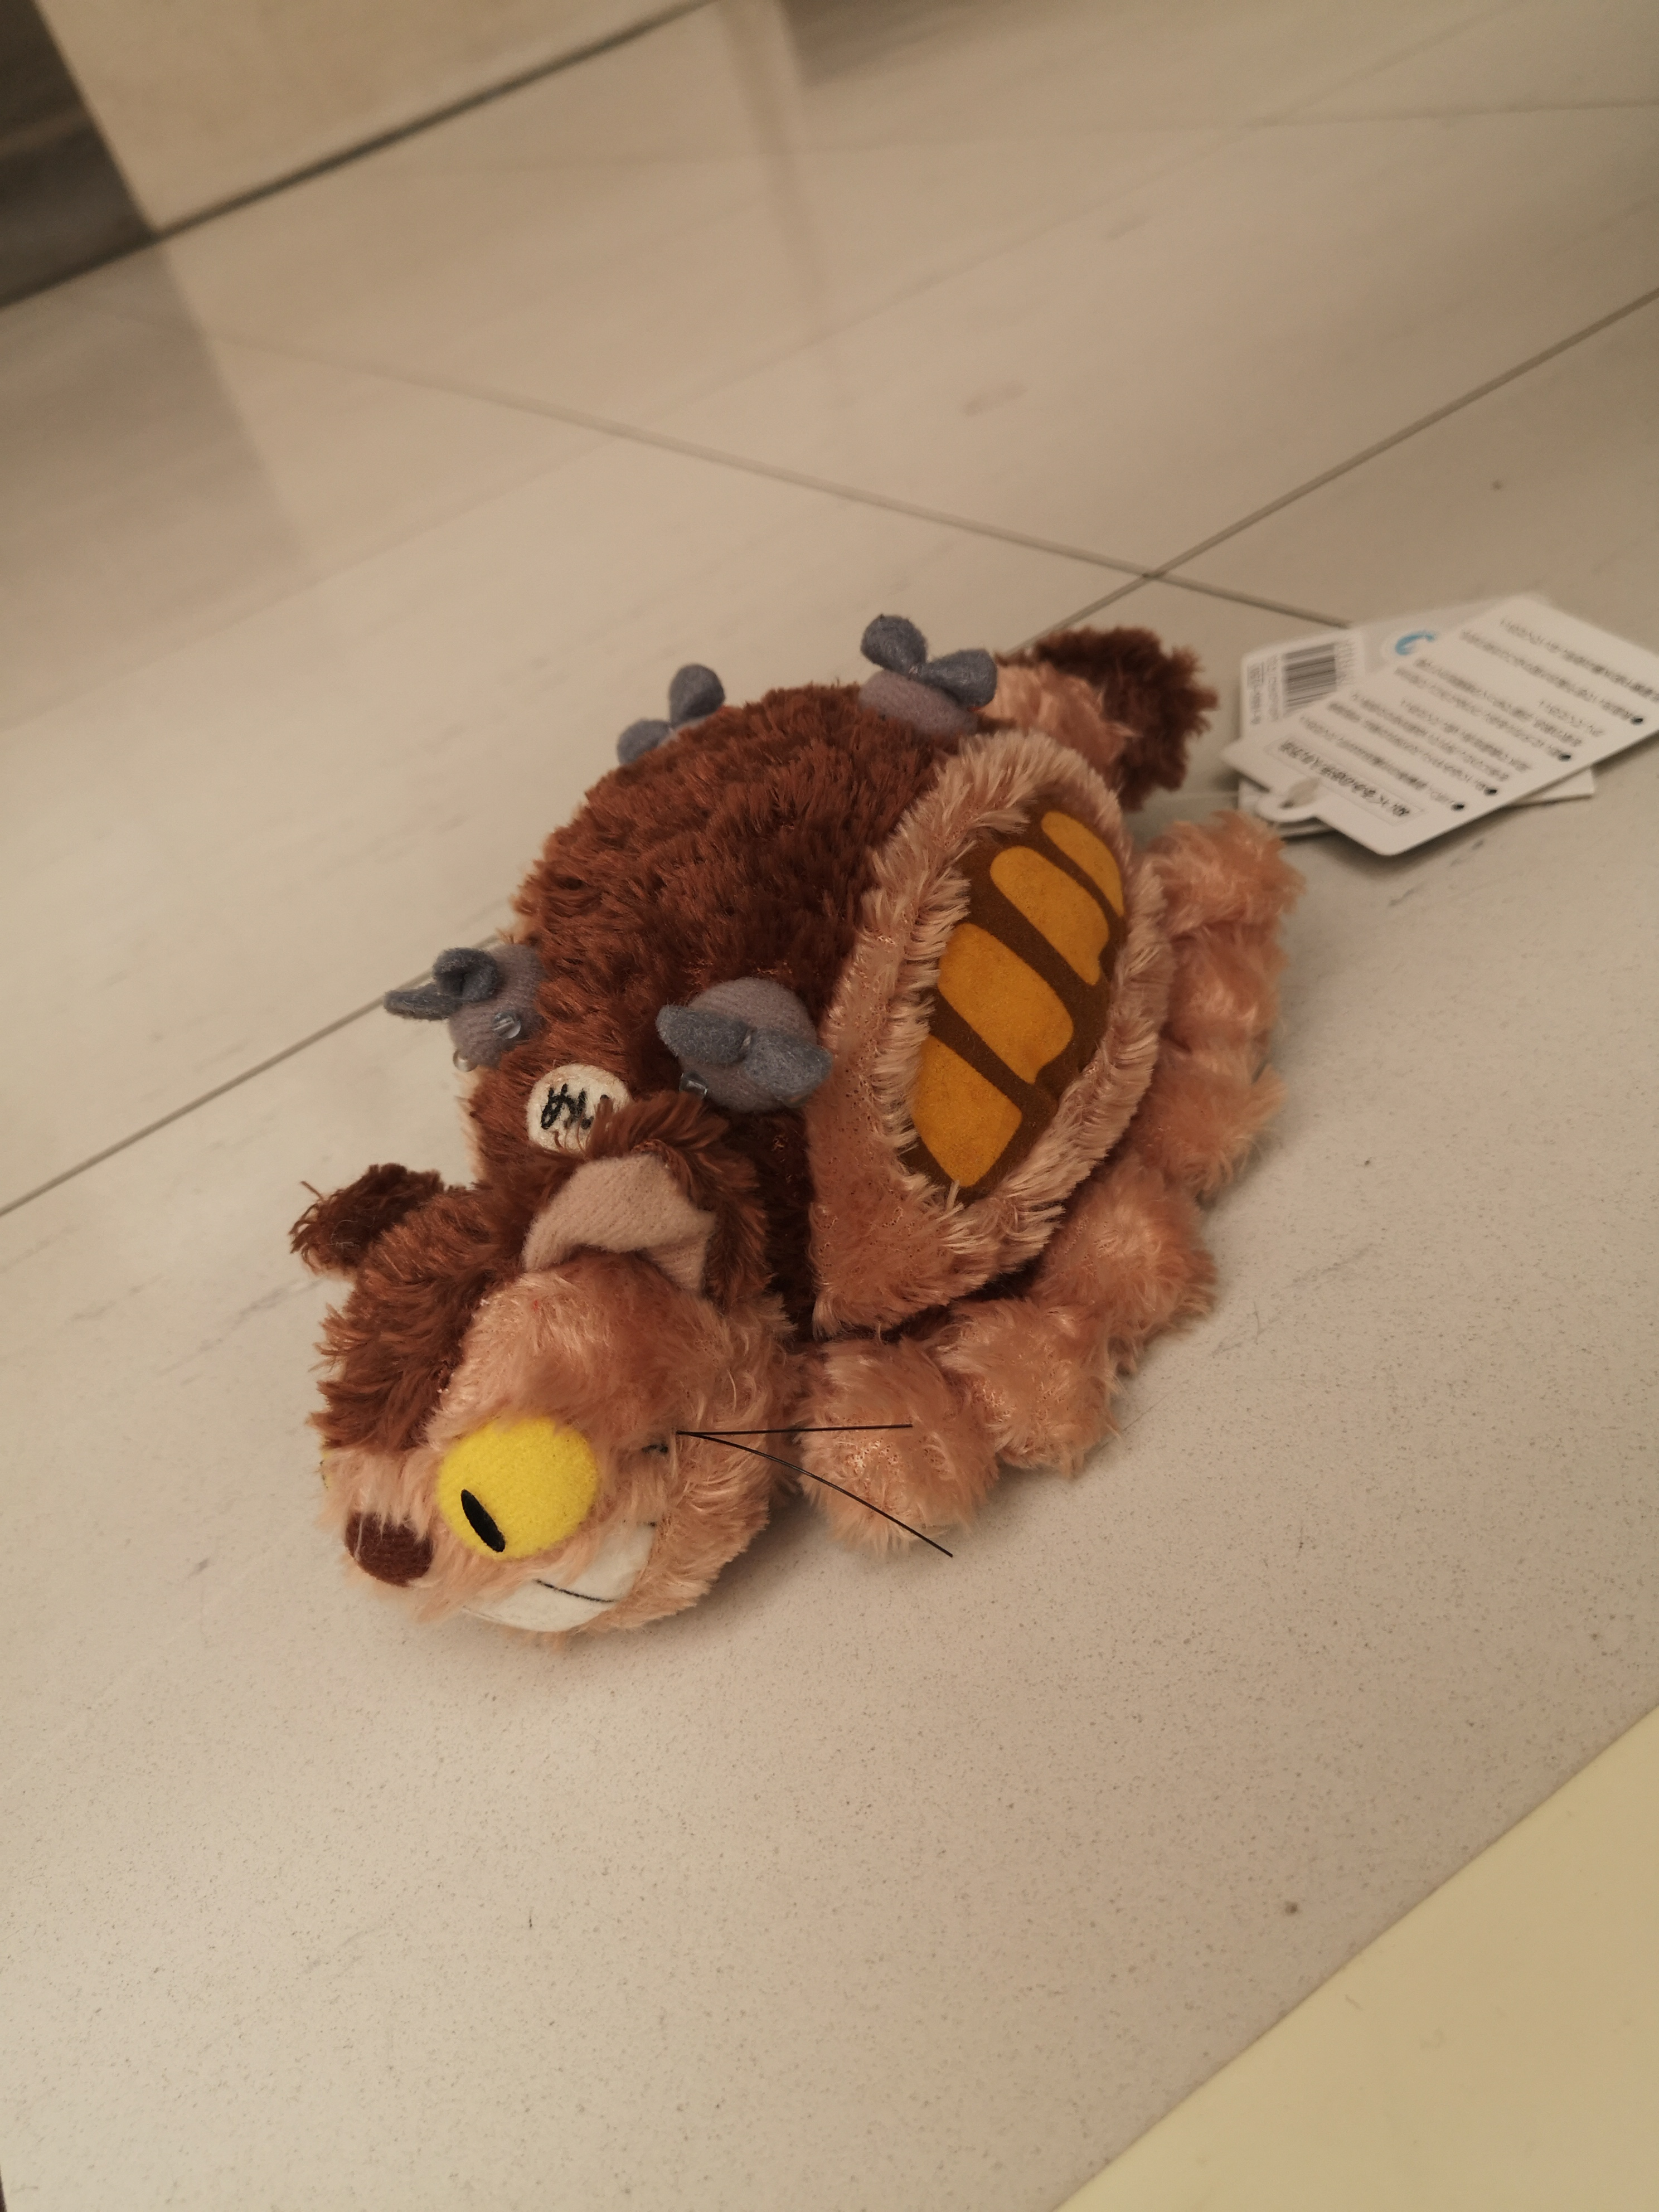nekobus: (274, 590, 1326, 1656)
